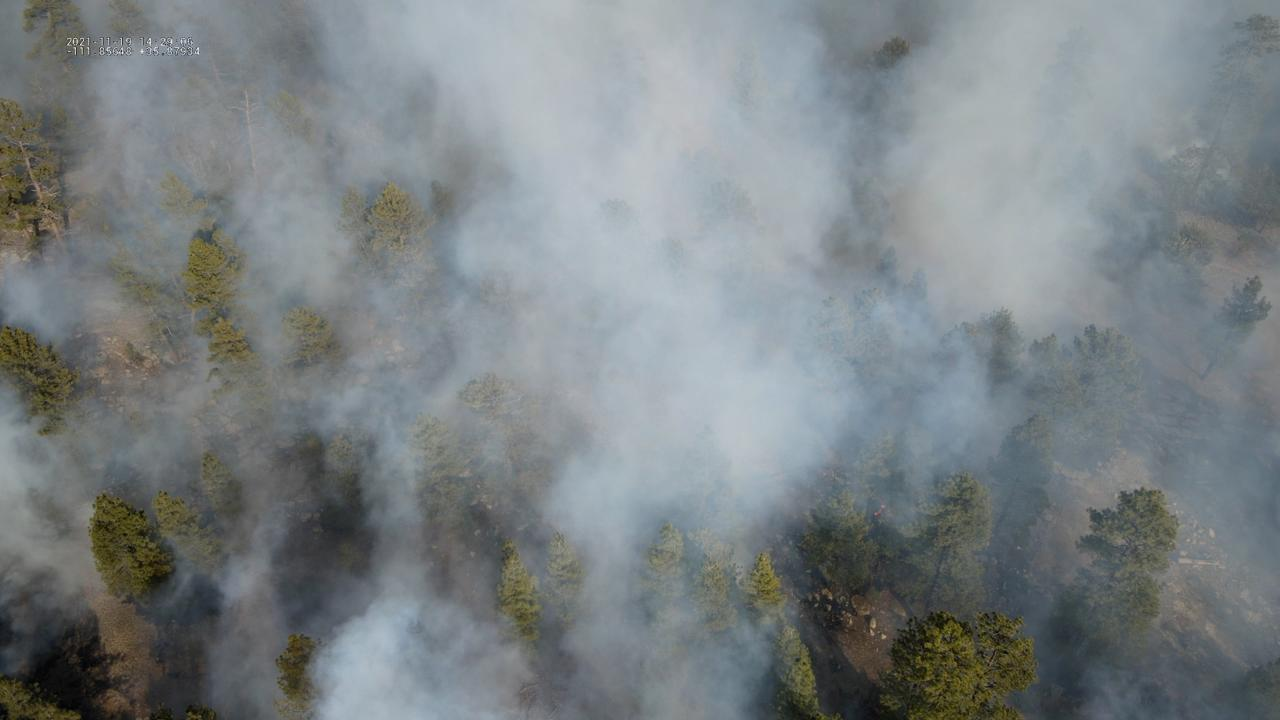fire: (871, 502, 887, 518)
smoke: (0, 0, 1280, 720)
